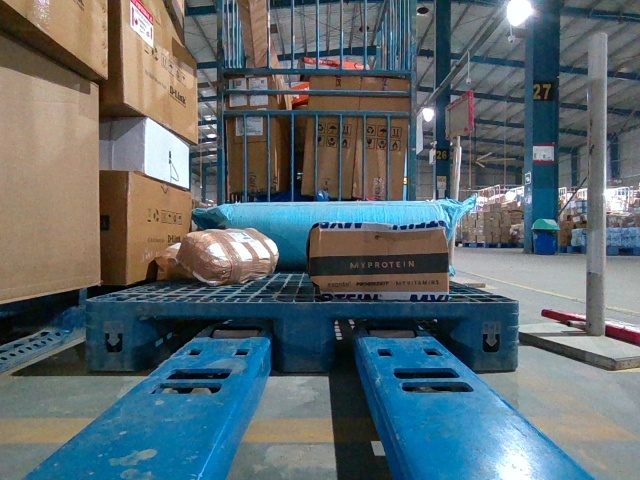block: (87, 300, 158, 374), (452, 301, 518, 376), (277, 303, 338, 372)
front: (86, 299, 517, 376)
hole pallet: (142, 319, 281, 379), (334, 316, 454, 371)
